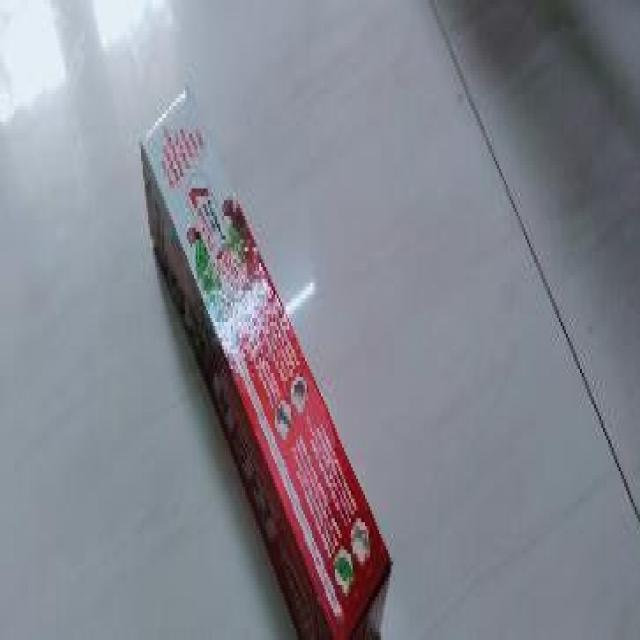tooth paste: (130, 74, 394, 640)
